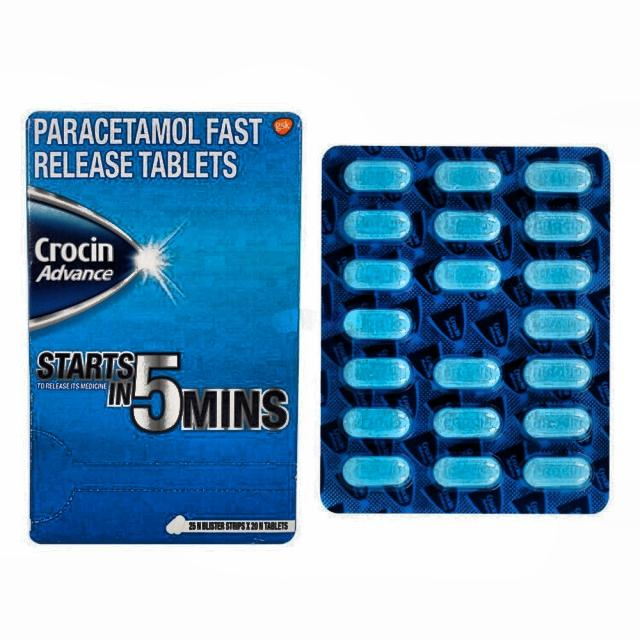Crocin: (27, 197, 162, 336)
